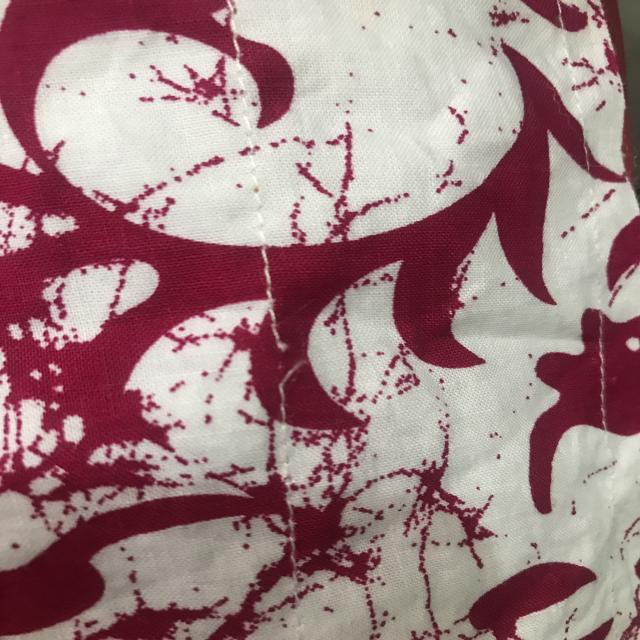broken: (261, 322, 313, 396)
